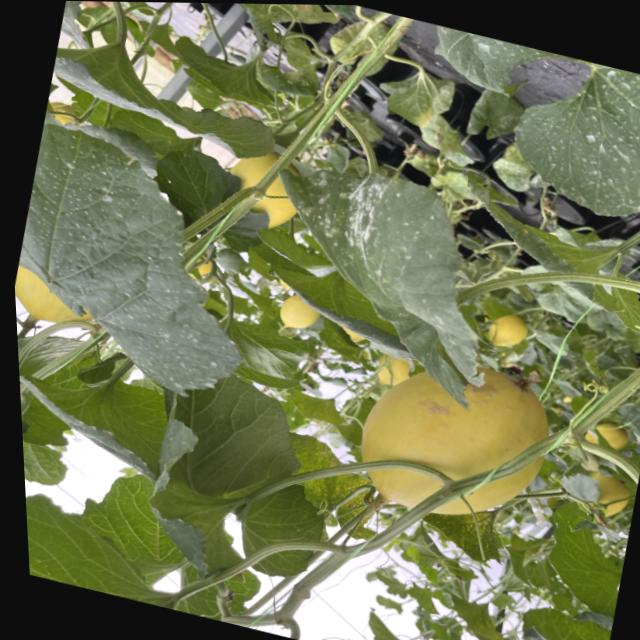downy mildew: (6, 119, 287, 409), (405, 24, 640, 235)
healthy: (41, 29, 294, 168), (25, 478, 234, 620)
powdery mildew: (227, 145, 531, 412)
